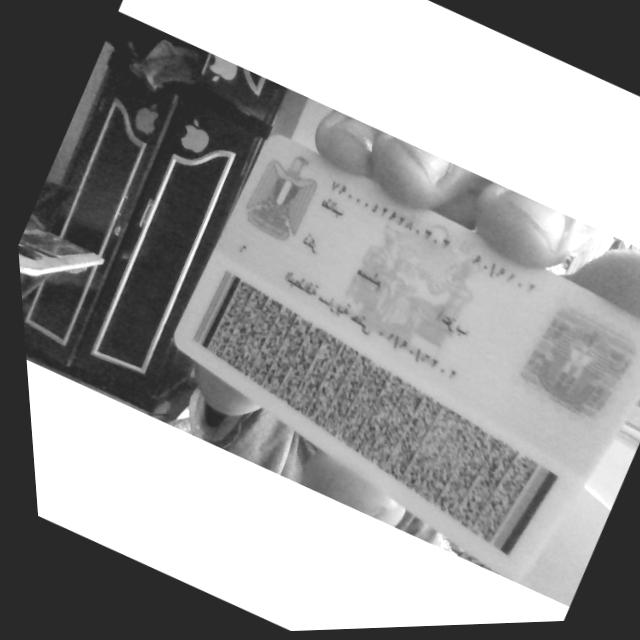id_card: (174, 135, 640, 582)
